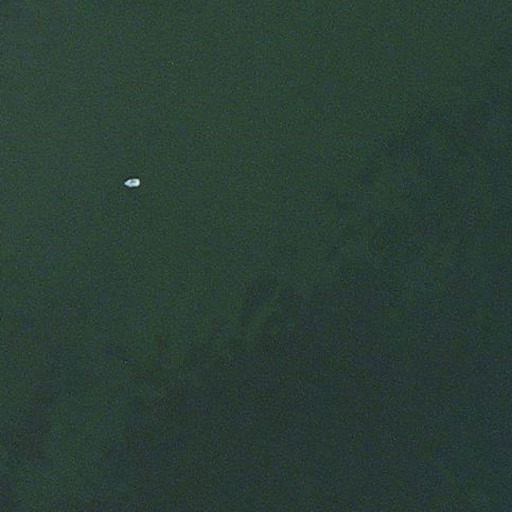ship: (121, 174, 143, 193)
